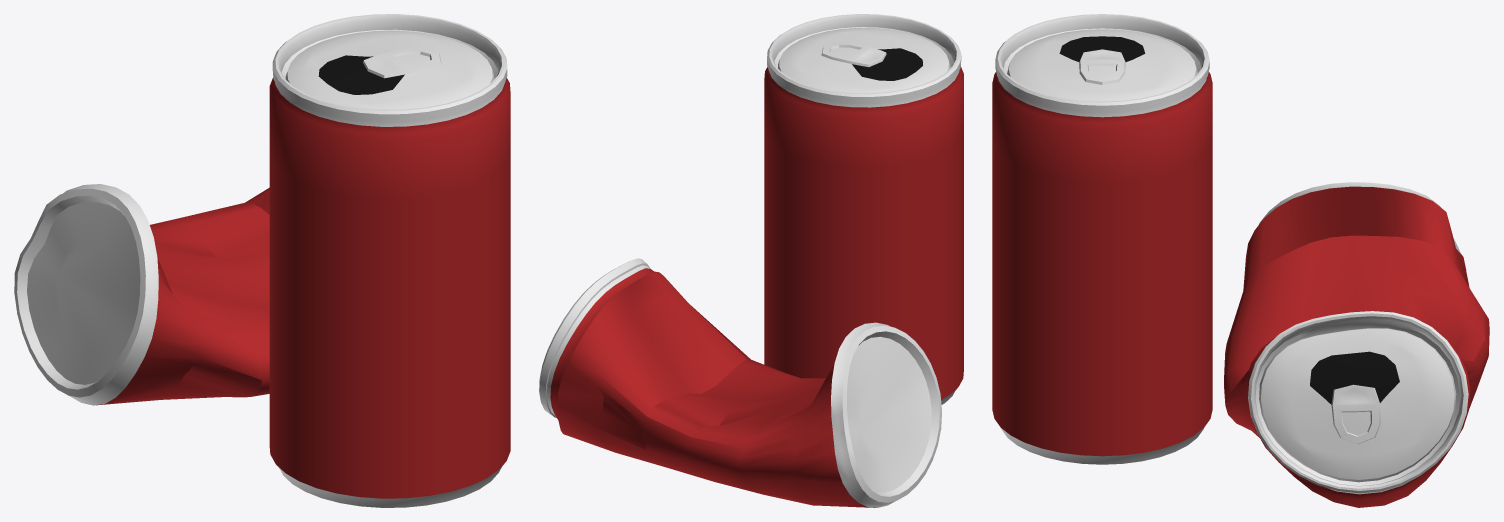
File: can.fbx
The picture shows the model from 3 angles, left to right: view 1: azimuth 30°, elevation 25°; view 2: azimuth 150°, elevation 25°; view 3: azimuth 270°, elevation 25°; orthographic projection. The views are drawn at different scales.
Visible parts, largest first — view 1: Cylinder, Cylinder.001; view 2: Cylinder, Cylinder.001; view 3: Cylinder, Cylinder.001.
Part boxes in pixels (left/top/right/bottom): Cylinder: left=269, top=14, right=510, bottom=507; Cylinder.001: left=14, top=184, right=269, bottom=405; Cylinder: left=764, top=14, right=963, bottom=404; Cylinder.001: left=539, top=258, right=941, bottom=507; Cylinder: left=992, top=14, right=1212, bottom=464; Cylinder.001: left=1224, top=182, right=1489, bottom=507.
Bounding box in the file's own units: 388 × 370 × 451.
